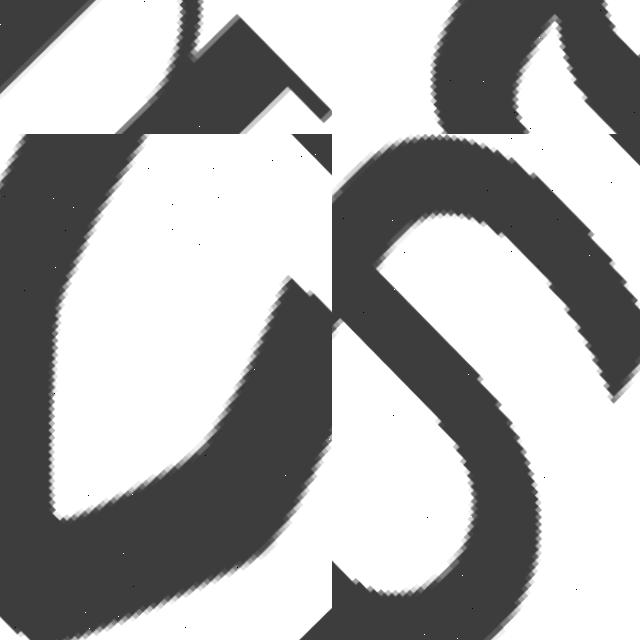A: (332, 134, 640, 640)
G: (332, 0, 640, 134)
N: (0, 0, 332, 134)
V: (0, 134, 332, 640)
